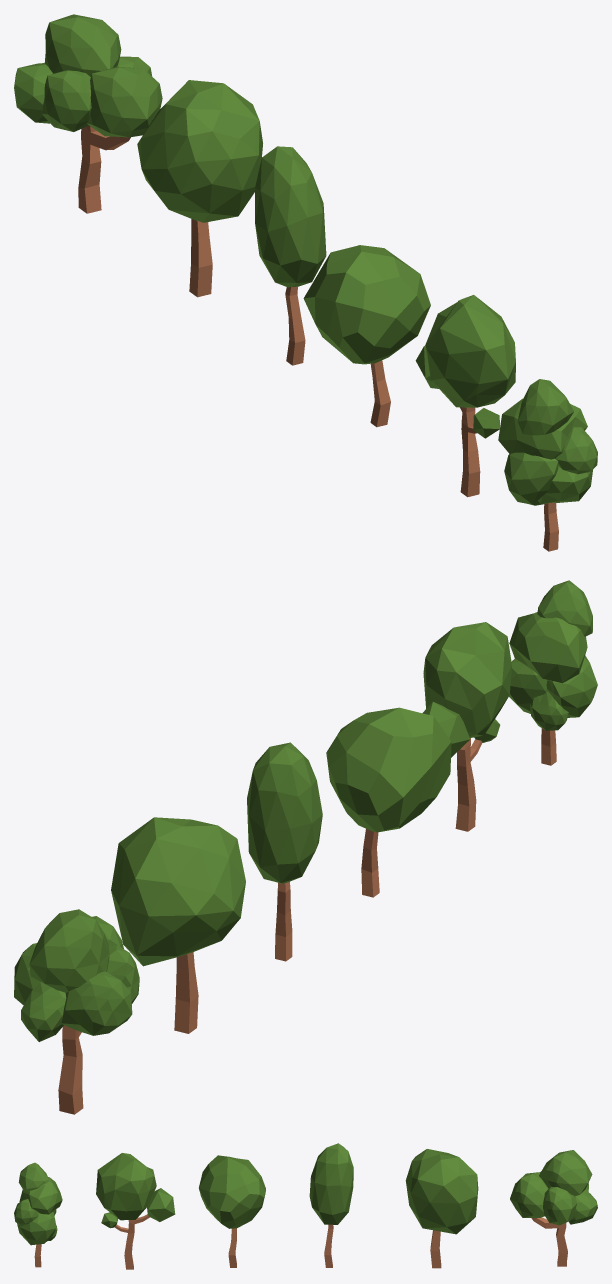
3 views of the same model, one above another, from view 1: azimuth 30°, elevation 25°; view 2: azimuth 150°, elevation 25°; view 3: azimuth 270°, elevation 25° (orthographic). The views are drawn at different scales.
Visible parts, largest first — view 1: Tree 5, Tree 6, Tree 3, Tree 2, Tree 1, Tree 4; view 2: Tree 5, Tree 6, Tree 3, Tree 2, Tree 1, Tree 4; view 3: Tree 5, Tree 6, Tree 2, Tree 3, Tree 4, Tree 1.
Boxes of the visible parts, left/top/right/bottom form: Tree 5: left=137, top=80, right=262, bottom=297; Tree 6: left=14, top=14, right=162, bottom=213; Tree 3: left=303, top=245, right=430, bottom=427; Tree 2: left=415, top=295, right=515, bottom=497; Tree 1: left=498, top=379, right=597, bottom=551; Tree 4: left=255, top=146, right=326, bottom=365; Tree 5: left=111, top=817, right=245, bottom=1033; Tree 6: left=14, top=909, right=139, bottom=1114; Tree 3: left=326, top=707, right=451, bottom=897; Tree 2: left=422, top=622, right=511, bottom=831; Tree 1: left=509, top=580, right=597, bottom=765; Tree 4: left=247, top=742, right=322, bottom=961; Tree 5: left=405, top=1149, right=478, bottom=1268; Tree 6: left=510, top=1150, right=597, bottom=1266; Tree 2: left=96, top=1153, right=175, bottom=1269; Tree 3: left=199, top=1155, right=265, bottom=1267; Tree 4: left=309, top=1143, right=353, bottom=1267; Tree 1: left=14, top=1162, right=62, bottom=1267.
Size of the model in its own units: 0.6692 by 1.11 by 4.81.
1 material, 1 textured.
